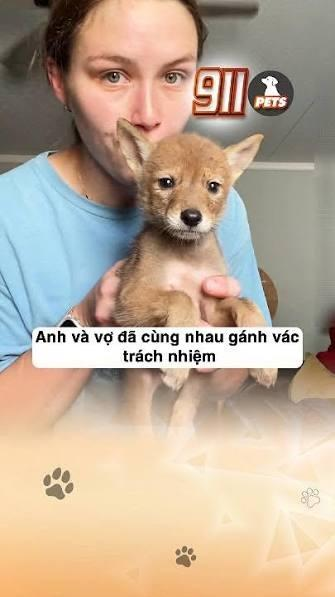non-dog: (0, 0, 272, 430)
puppy-dog: (109, 120, 276, 443)
